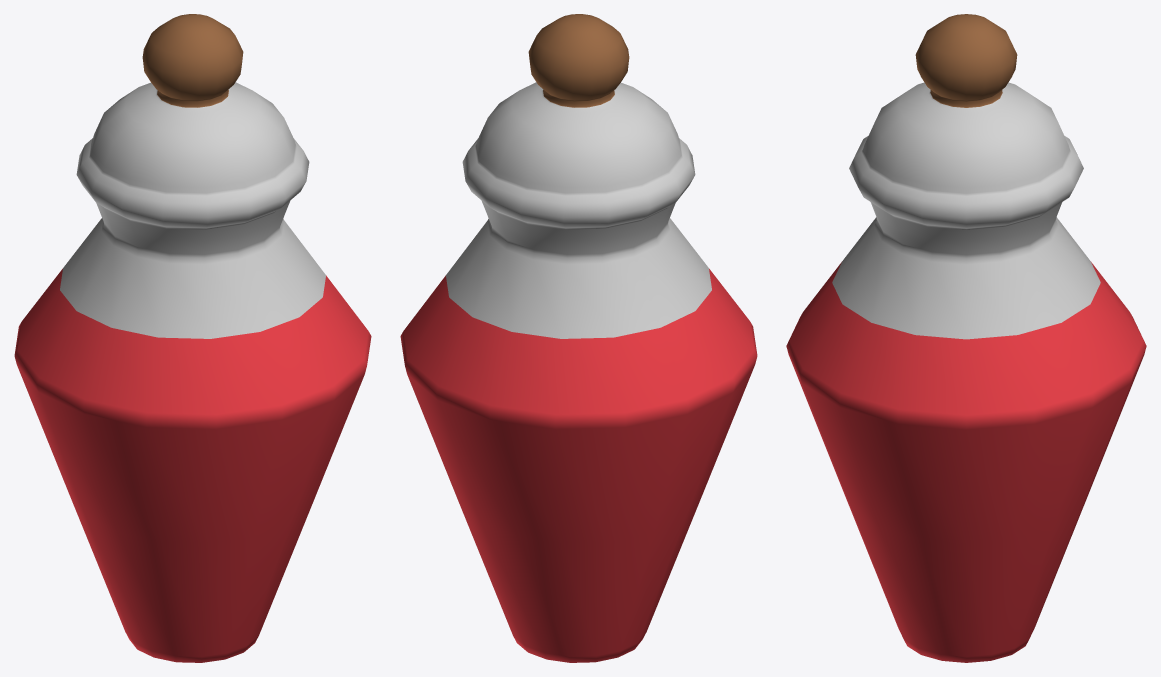
The model's file is Pocion_7.fbx.
The picture shows the model from 3 angles, left to right: view 1: azimuth 30°, elevation 25°; view 2: azimuth 150°, elevation 25°; view 3: azimuth 270°, elevation 25°; orthographic projection.
Parts seen in each view (by area): view 1: Cube.005; view 2: Cube.005; view 3: Cube.005.
Boxes of the visible parts, <box> form: Cube.005: <box>14,14,371,662</box>; Cube.005: <box>400,14,757,662</box>; Cube.005: <box>786,14,1146,662</box>.
Bounding box in the file's own units: 152 × 288 × 152.
